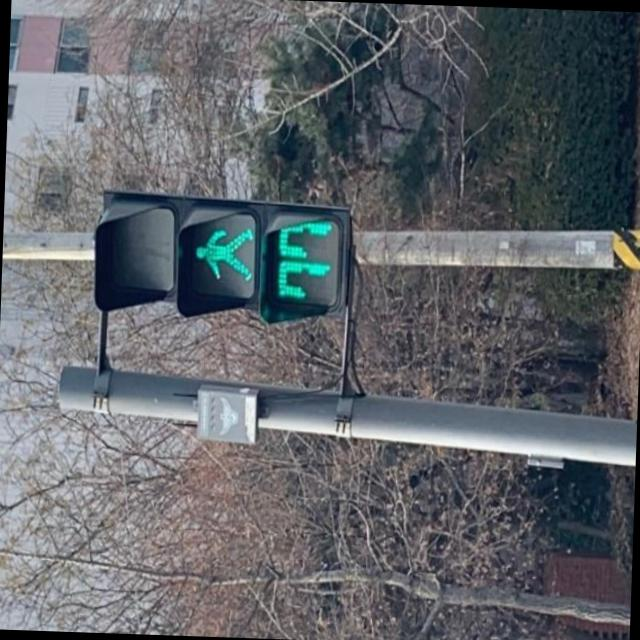green_light: (192, 214, 336, 300)
